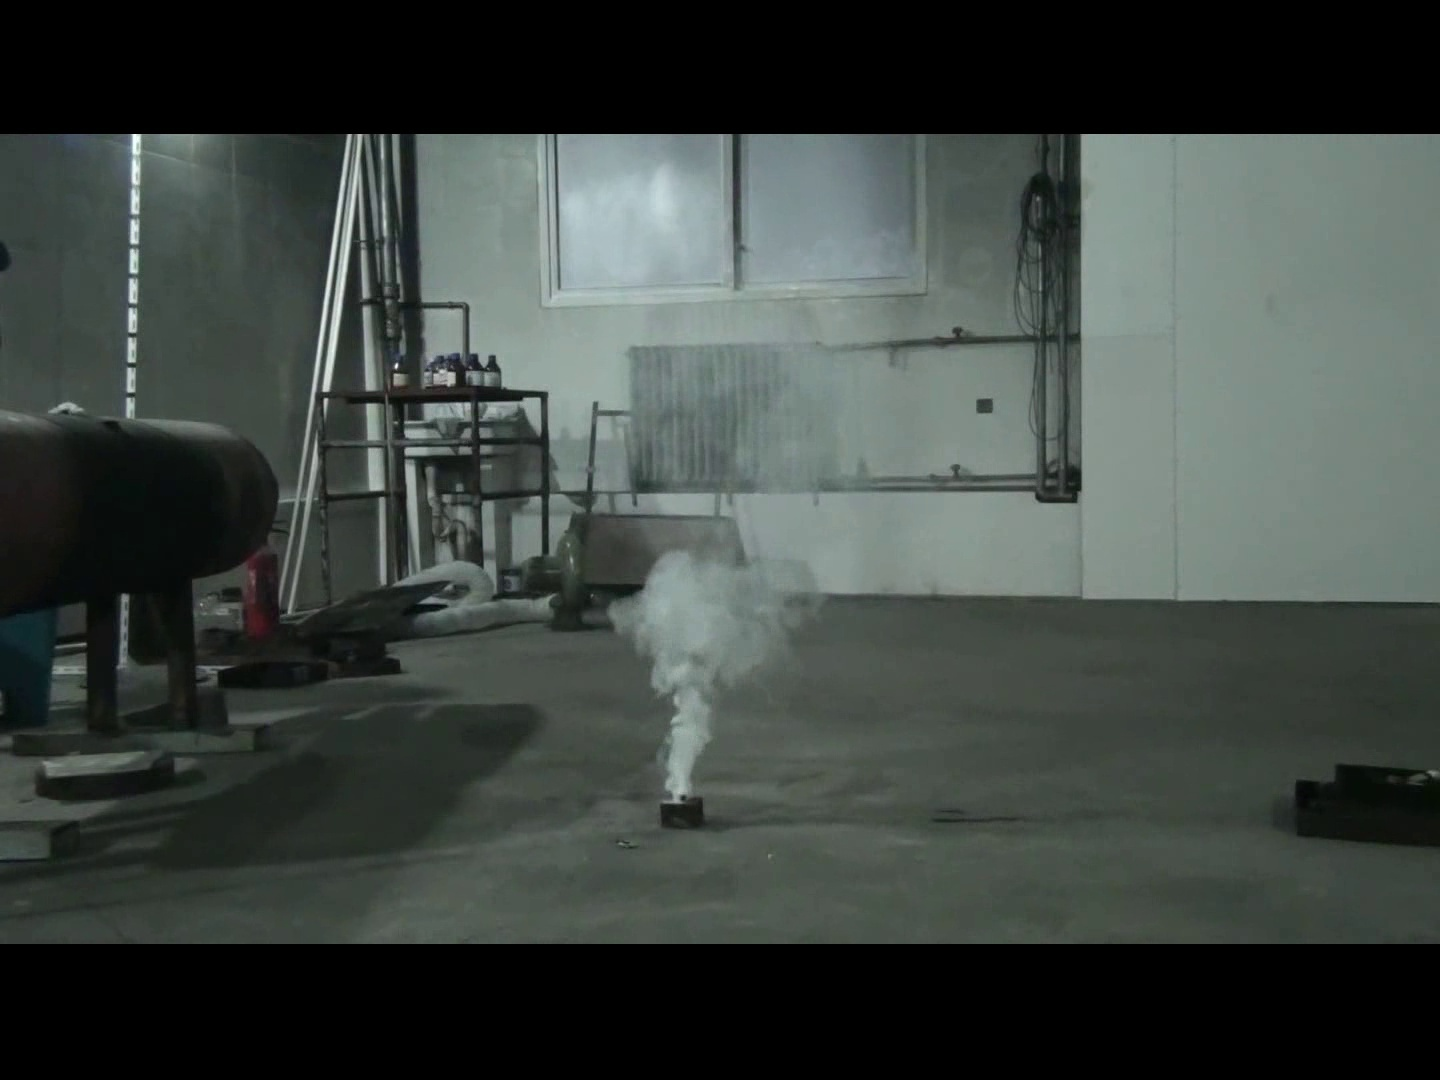smoke: (591, 529, 824, 790)
